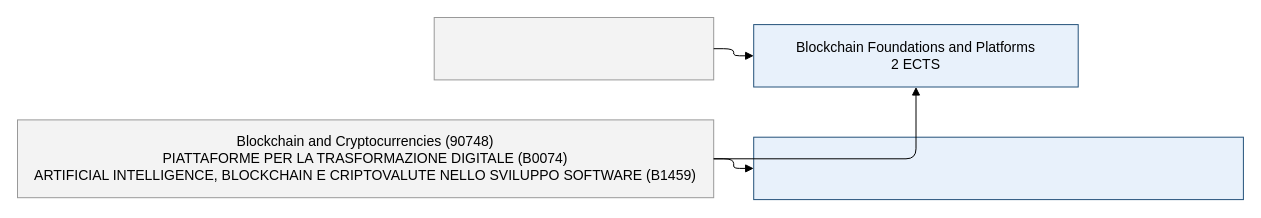
Image size: 1261x218. Some labels were removed from this diagram. Here are the shapes that lost their labels. From the top down, the centre of each, then its label:
At (x=573, y=48): "Information Security M (72942) Distributed Systems (87474)".
At (x=998, y=168): "Blockchain Transactions, Contracts, and Production Modelling 2 ECTS".
